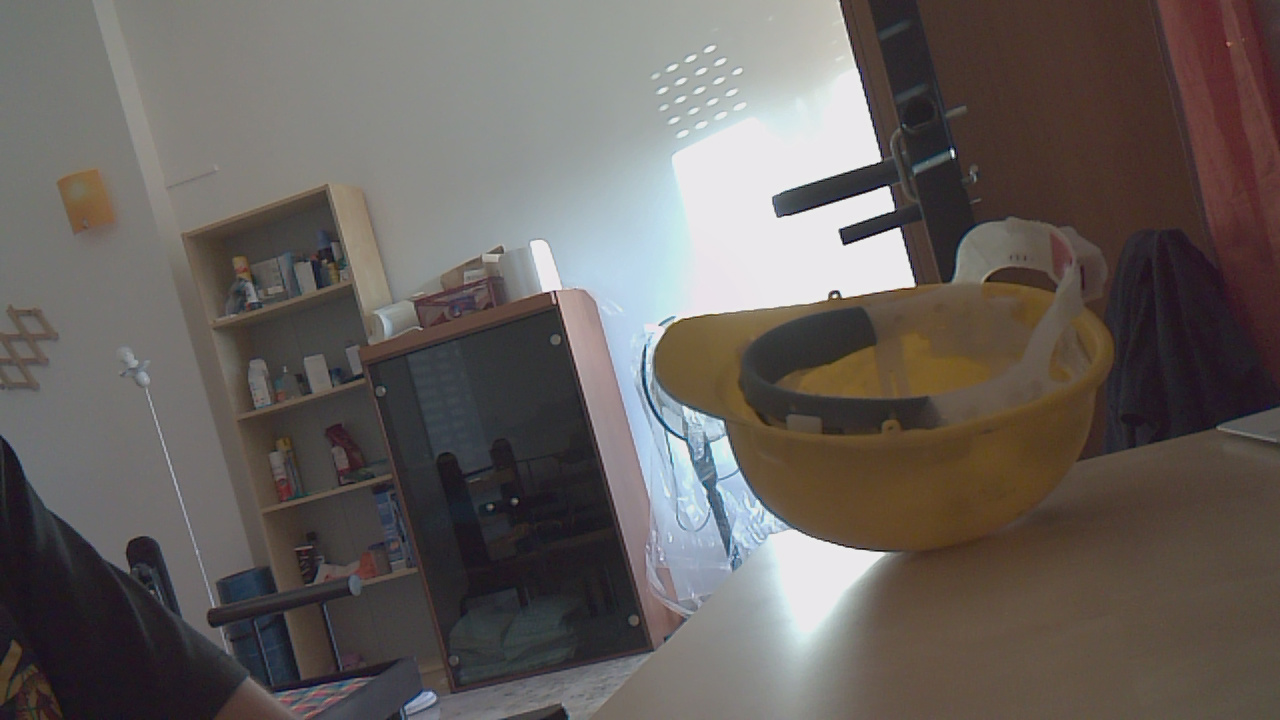Helmet: (661, 217, 1126, 559)
